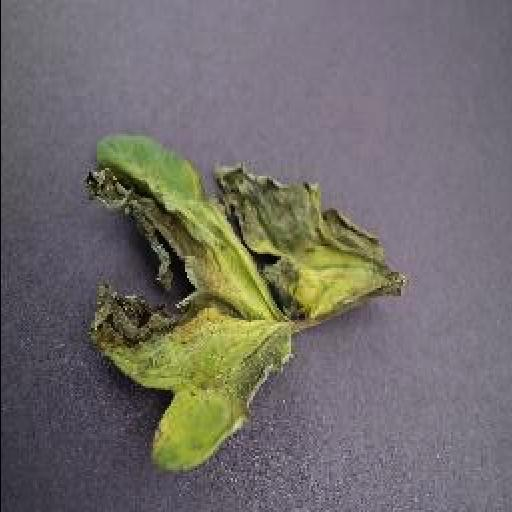disease_tomato: (83, 135, 401, 469)
